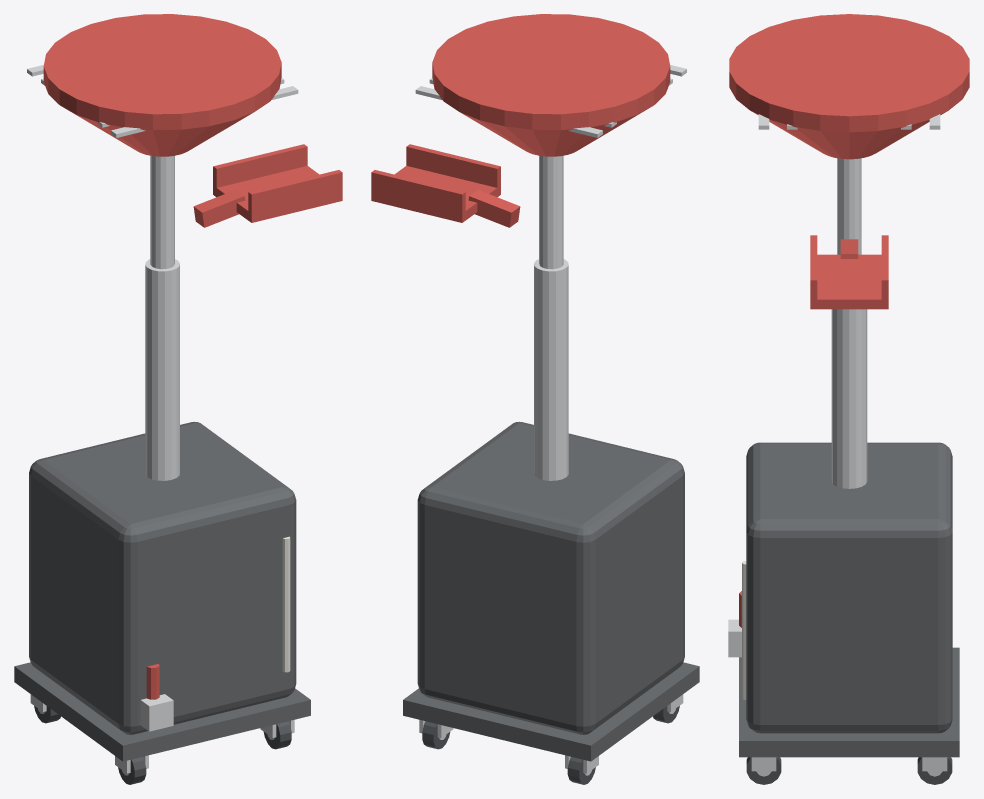
Rendered from car-repair-garage-and-mot-workshop-car-repair-garage-a-648e6de1__34023.glb.
3 renders of one model, left to right at view 1: azimuth 30°, elevation 25°; view 2: azimuth 150°, elevation 25°; view 3: azimuth 270°, elevation 25°, orthographic.
Visible parts, largest first — view 1: car-repair-garage-and-mot-workshop-oil-drainer; view 2: car-repair-garage-and-mot-workshop-oil-drainer; view 3: car-repair-garage-and-mot-workshop-oil-drainer.
Part boxes in pixels (box(x1,y1,x2,y2)): car-repair-garage-and-mot-workshop-oil-drainer: box(14, 14, 342, 784); car-repair-garage-and-mot-workshop-oil-drainer: box(371, 14, 699, 784); car-repair-garage-and-mot-workshop-oil-drainer: box(728, 14, 969, 784).
Size of the model in its own units: 0.87 by 2.11 by 0.6774.
